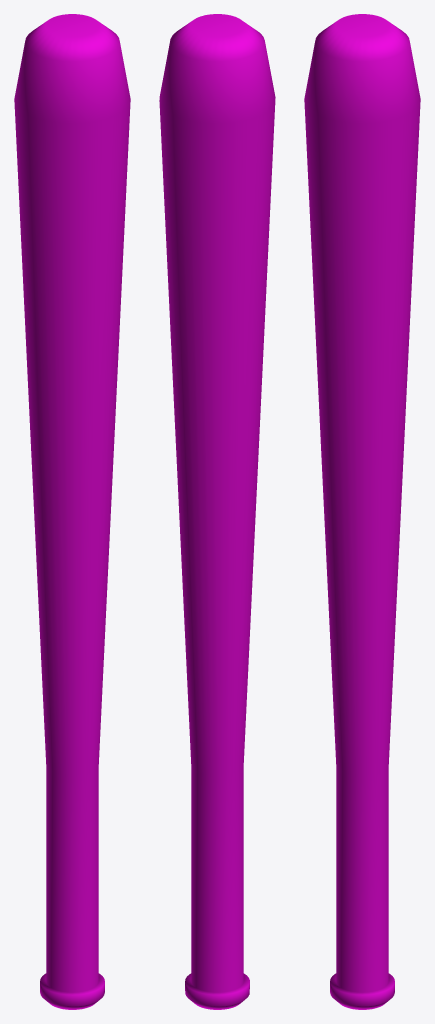
Rendered from BaseballBatPlain.fbx.
3 renders of one model, left to right at view 1: azimuth 90°, elevation 25°; view 2: azimuth 150°, elevation 25°; view 3: azimuth 270°, elevation 25°, orthographic.
Visible parts, largest first — view 1: BAT; view 2: BAT; view 3: BAT.
Boxes of the visible parts, x1,y1,x2,y2 form: BAT: (14, 14, 130, 1009); BAT: (159, 14, 275, 1009); BAT: (304, 14, 420, 1009).
Bounding box in the file's own units: 20.3 × 188 × 20.3.
